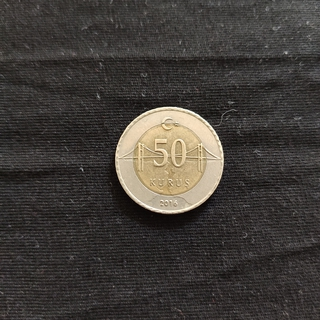50KURUS: (112, 105, 226, 215)
